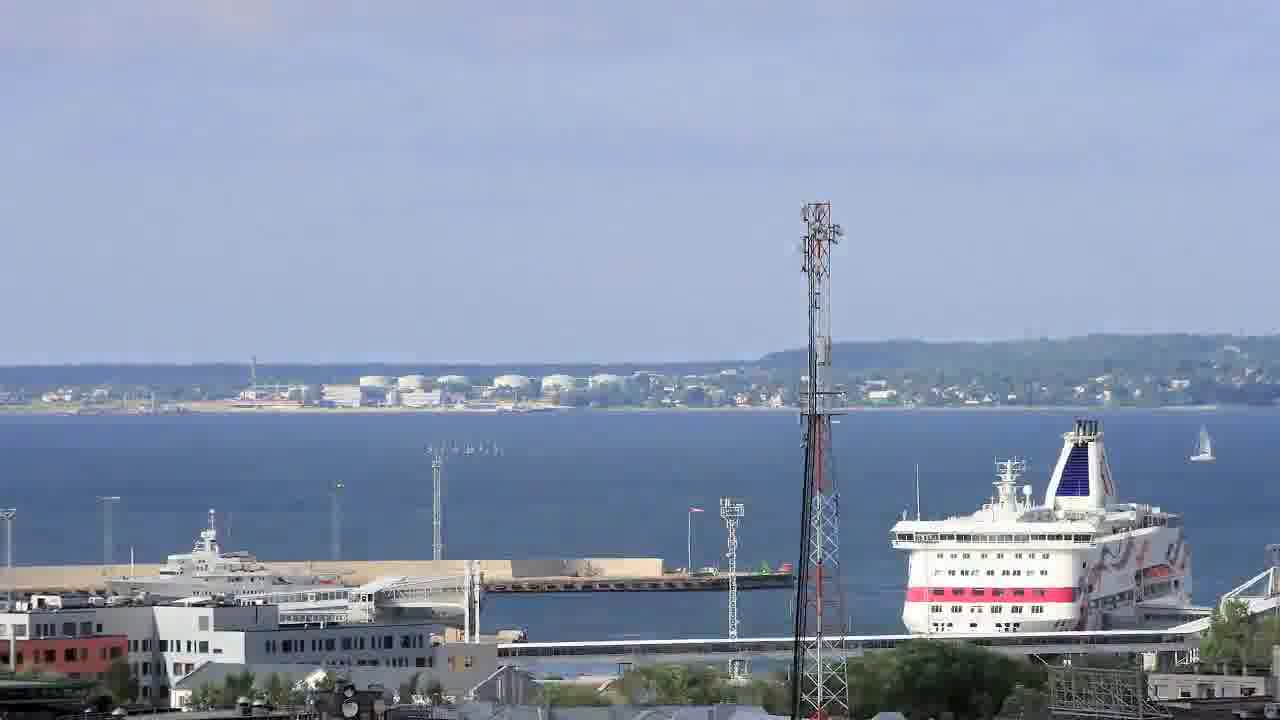type-2: (1177, 423, 1231, 475)
type-3: (868, 415, 1225, 638), (84, 537, 359, 610)
